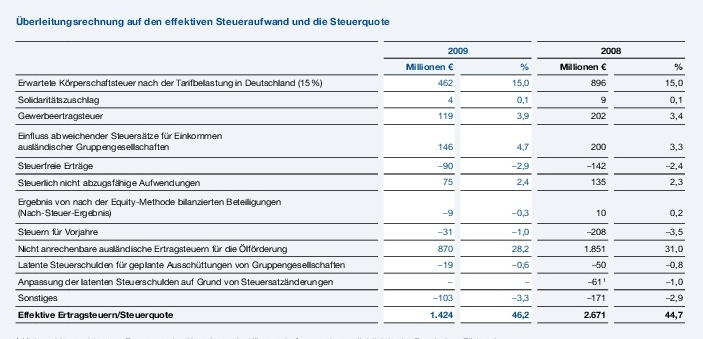table: (0, 0, 703, 339)
